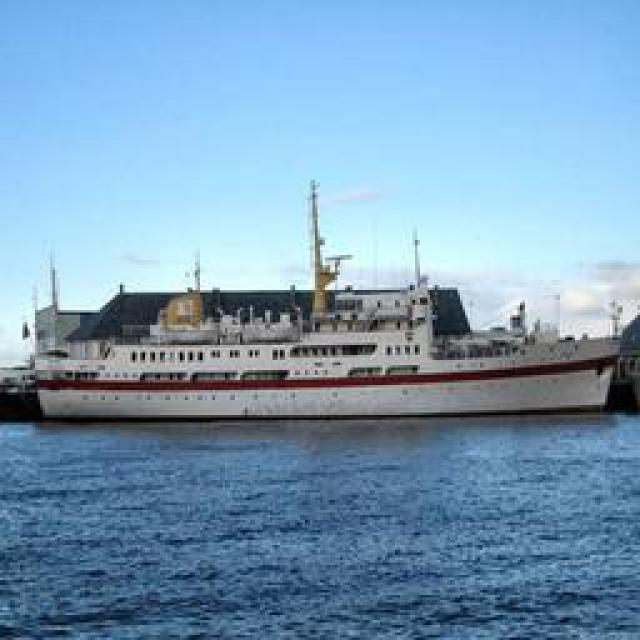Ship: (21, 276, 631, 424)
